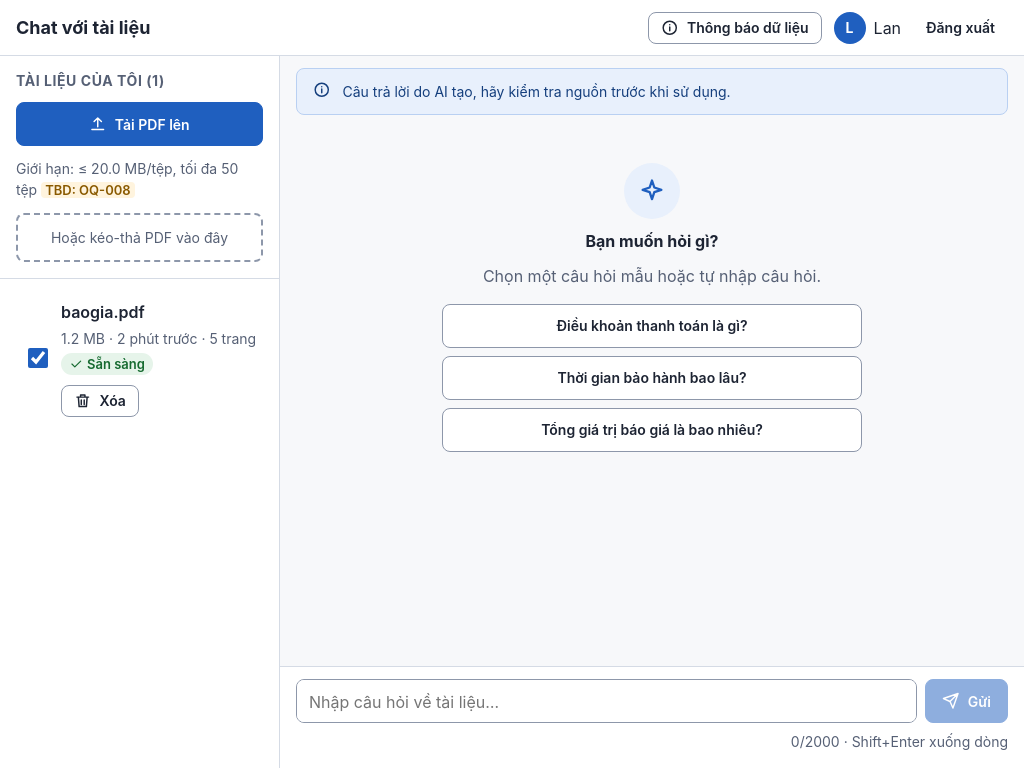
Workspace — hỏi đáp và nguồn dẫn › hỏi → câu trả lời + chip → mở panel nguồn → Esc đóng và trả focus
Type "Hạn thanh toán?" into the text box named "Câu hỏi của bạn" at [607, 701], box [296,679,917,723]
Then press Enter
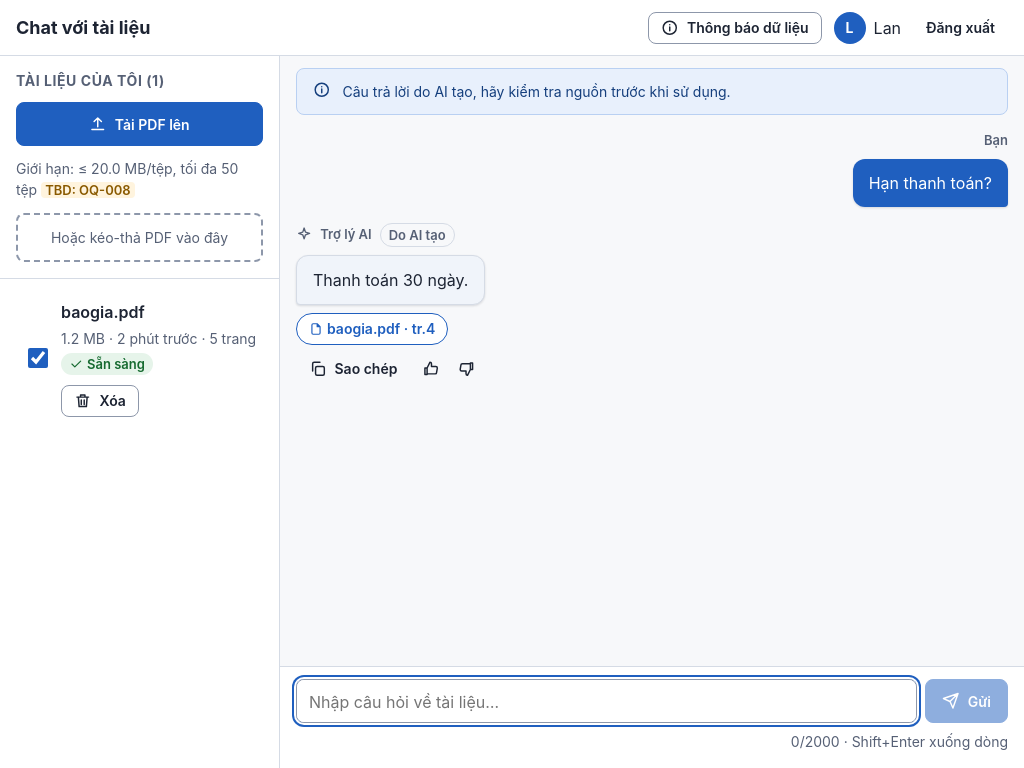
Check: the text "Do AI tạo" is shown, box [380,222,455,247]
Click the button "baogia.pdf · tr.4" at [372, 329], box [296,313,448,345]
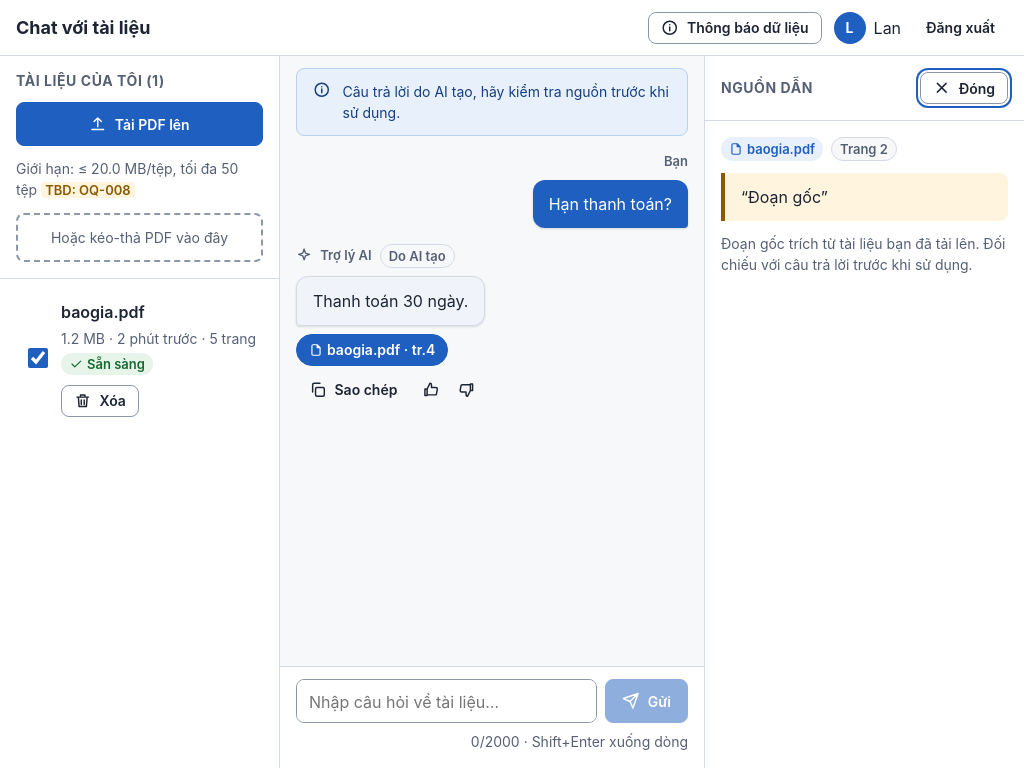
Check: the text "“Đoạn gốc”" is shown, box [721,173,1008,221]
Check: the button "baogia.pdf · tr.4" is expanded, box [296,334,448,366]
Press Escape
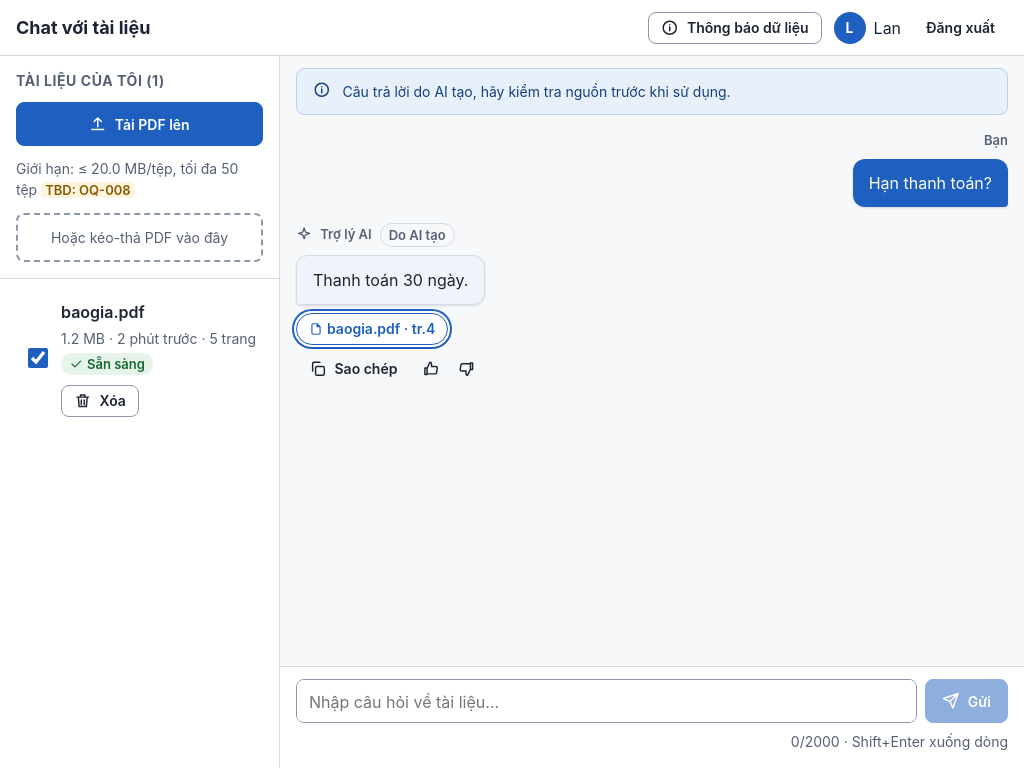
Check: the button "baogia.pdf · tr.4" is collapsed, box [296,313,448,345]
